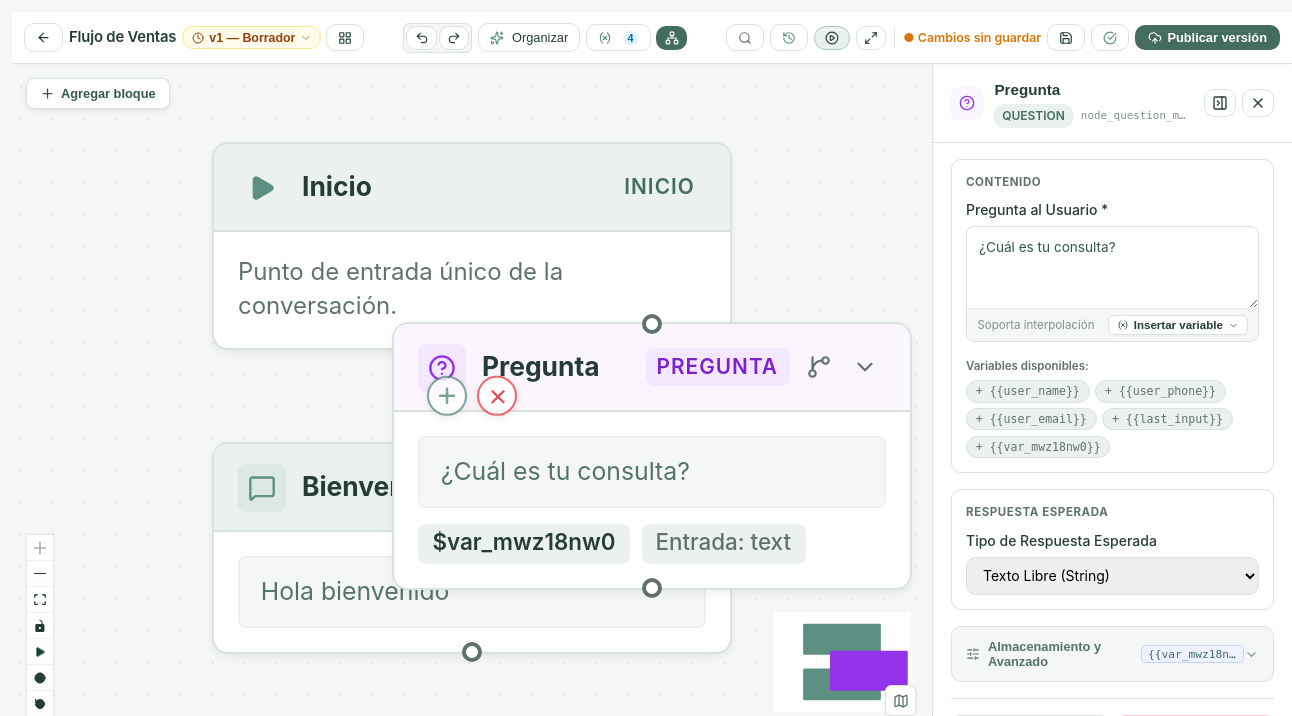
Test: FlowEditor › adds nodes from palette, modifies dirty state, and saves payload with positions
The width and height of the screenshot is (1292, 716).
Earlier steps of the test are not shown.
Expected: the text "● Cambios sin guardar" is shown, [903, 28, 1041, 46]
Click the button named "Guardar" at (1066, 38), box [1047, 24, 1085, 51]
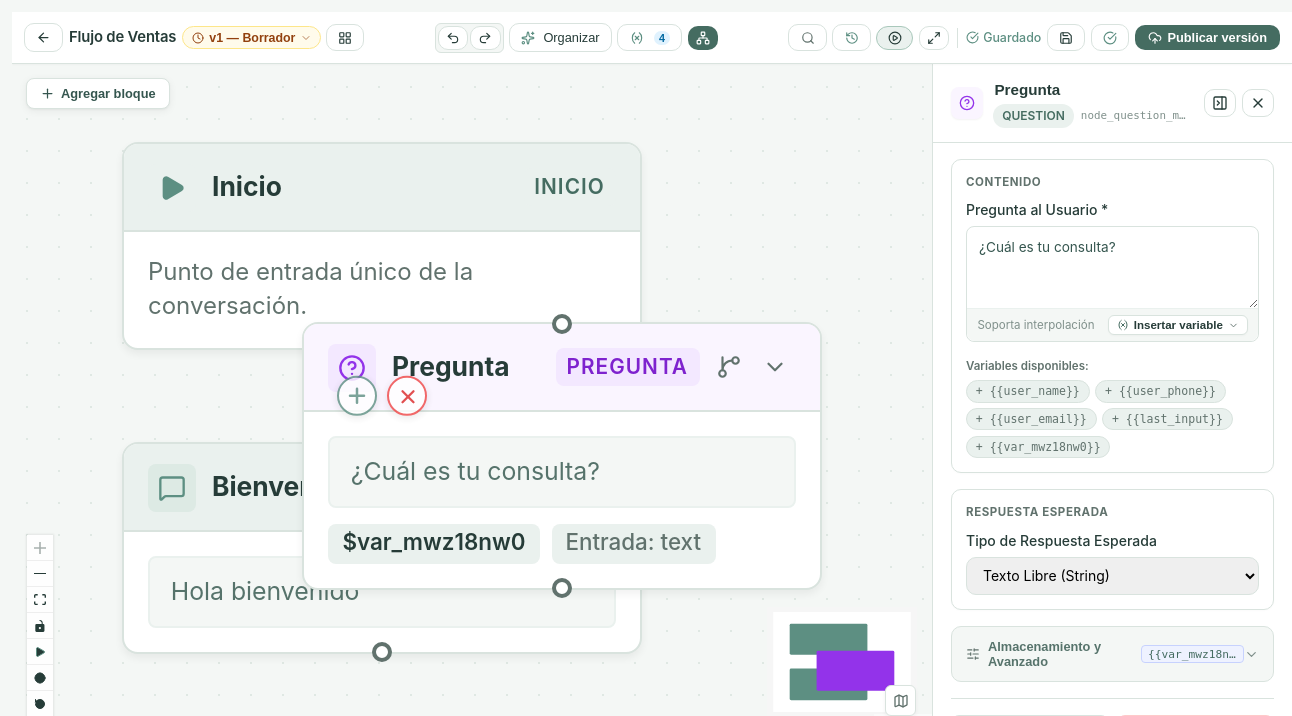
Result: the text "Guardado" is shown at [966, 28, 1041, 46]
